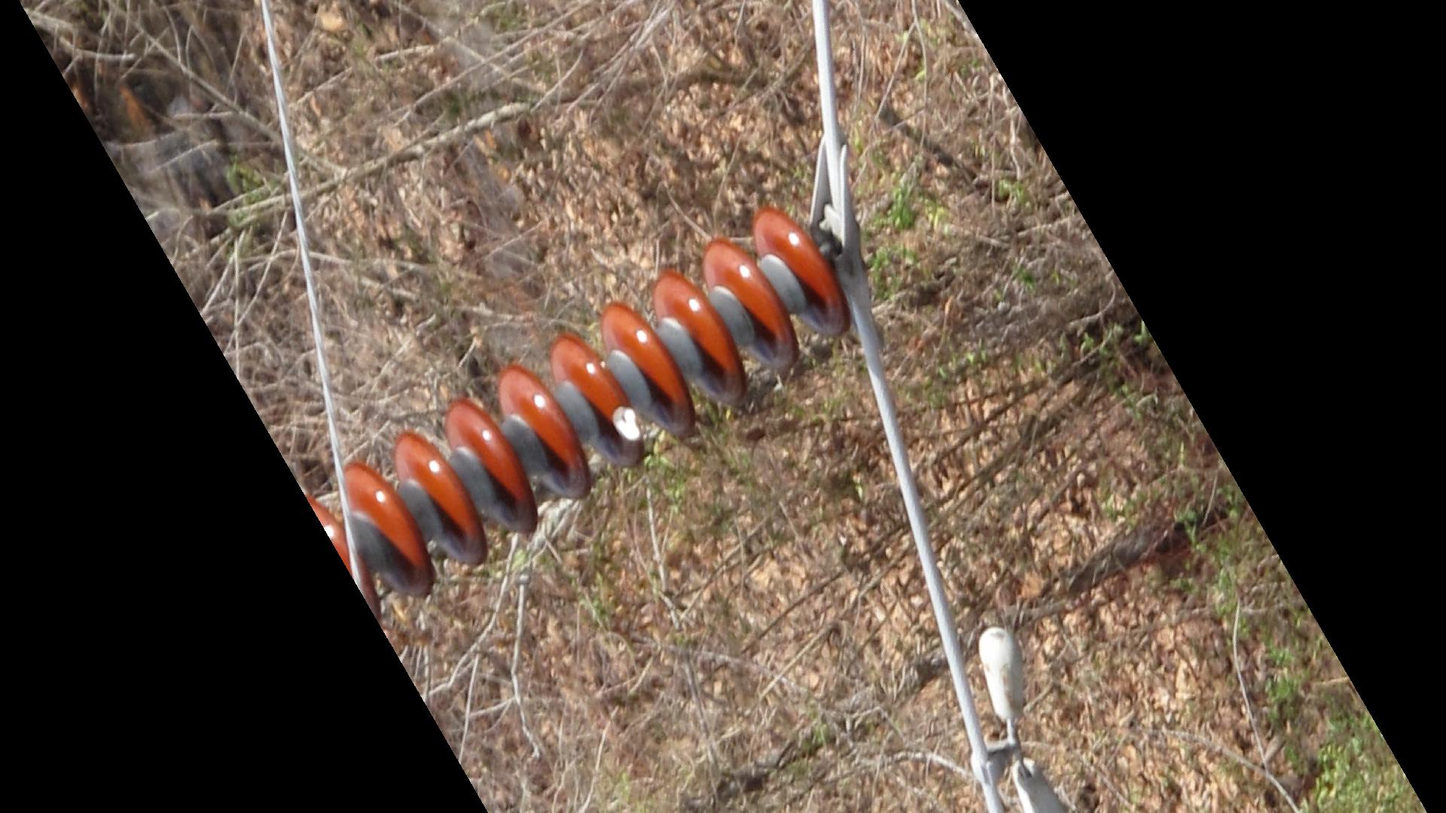insulator: (304, 201, 857, 615)
insulator_breakage: (601, 393, 651, 454)
